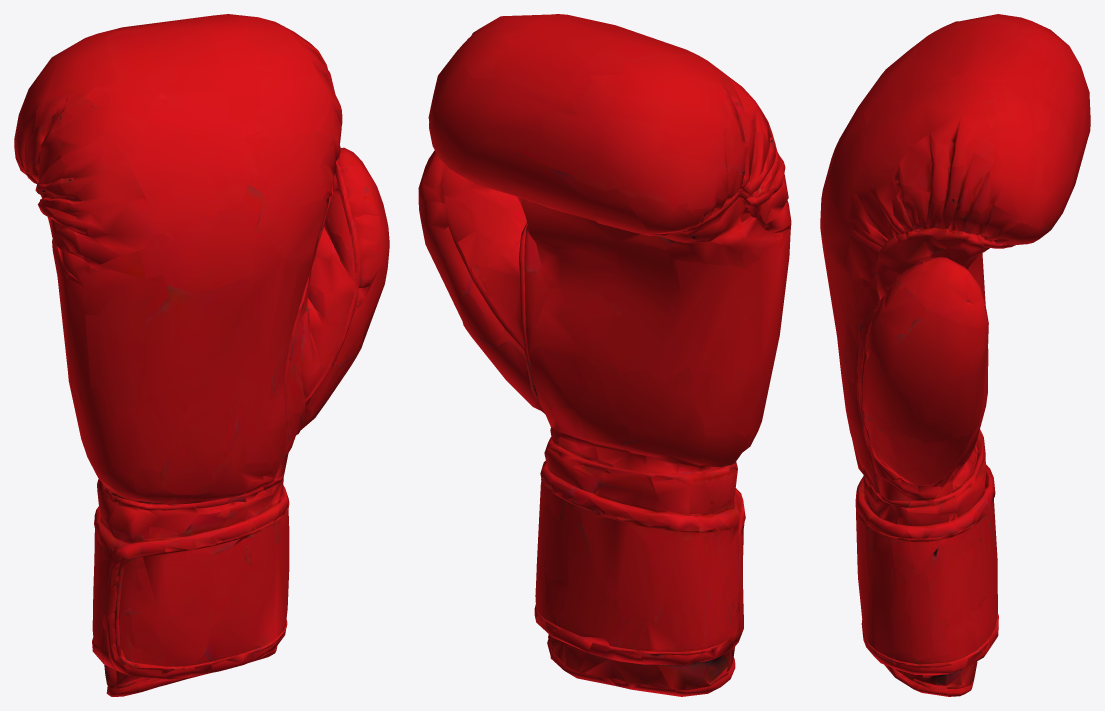
File: glove.glb
3 renders of one model, left to right at view 1: azimuth 30°, elevation 25°; view 2: azimuth 150°, elevation 25°; view 3: azimuth 270°, elevation 25°, orthographic. The views are drawn at different scales.
Visible parts, largest first — view 1: Mesh_0; view 2: Mesh_0; view 3: Mesh_0.
Boxes of the visible parts, box(x1,y1,x2,y2) form: Mesh_0: box(14, 14, 389, 696); Mesh_0: box(418, 14, 791, 696); Mesh_0: box(820, 14, 1090, 696).
Size of the model in its own units: 1.04 by 1.9 by 0.7396.
Materials: 1 (1 with a texture image).
